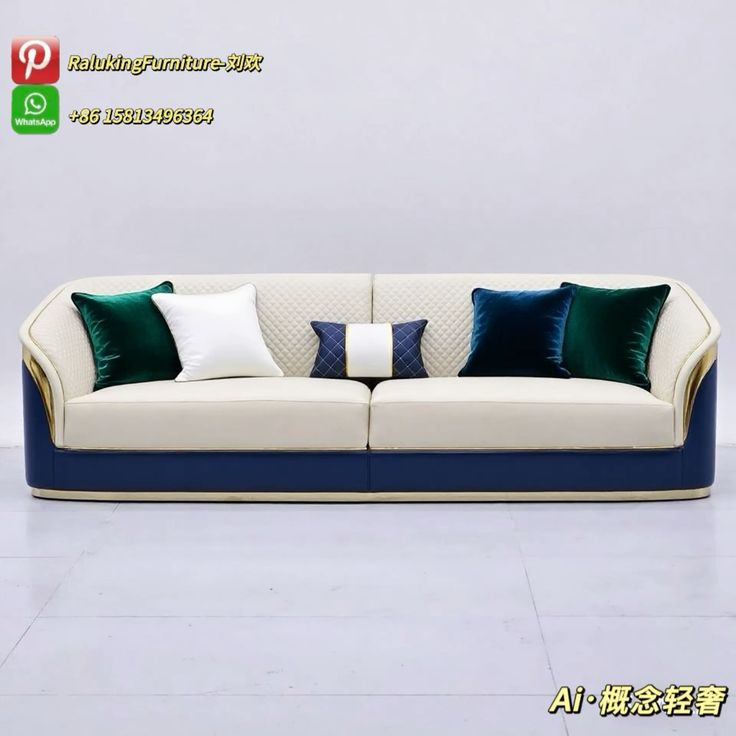3seatersofa: (22, 273, 719, 501)
base: (40, 452, 677, 502)
leftarmrest: (652, 283, 719, 487)
pillow: (72, 280, 284, 390), (458, 282, 670, 389), (309, 319, 428, 379)
rightarmrest: (20, 286, 92, 486)
seat: (61, 377, 675, 449)
